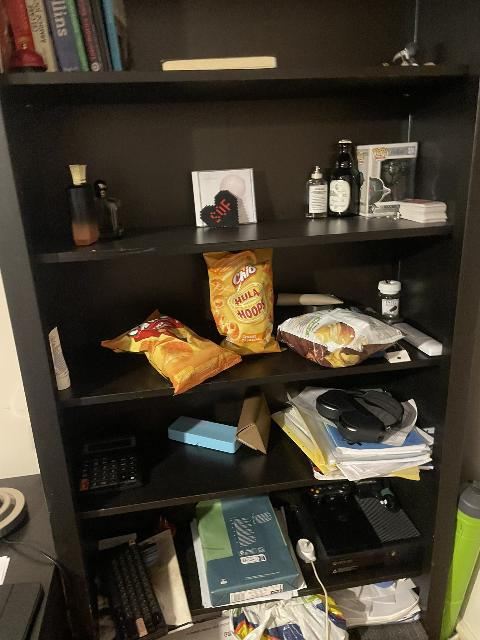Chio Cascaval 125g: (101, 310, 241, 395)
Chio Hula Hoops Cheese 70g: (203, 250, 280, 348)
Lays Beef Grilled Ribs 125g: (279, 306, 401, 366)
